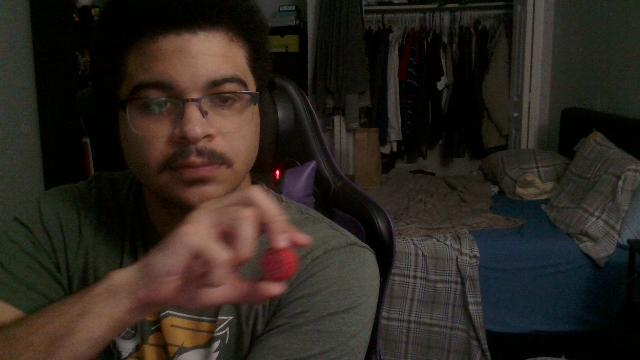cap: (260, 245, 298, 282)
